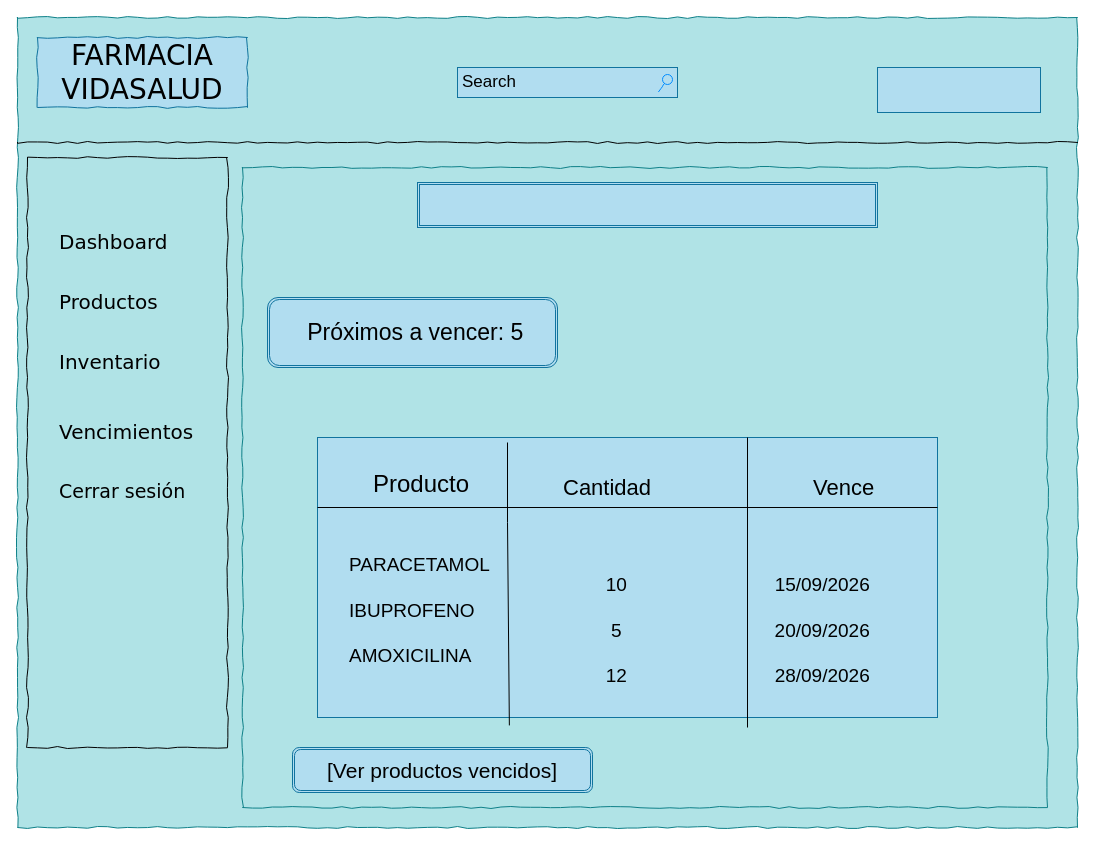
Some shapes in this 1095 by 845 pixel diagram are drawn without their labels. Here are the shapes that lost their labels. From the top down, the centre of each, then its label:
point 958,89: Usuario: María
point 647,205: CONTROL DE VENCIMIENTOS
